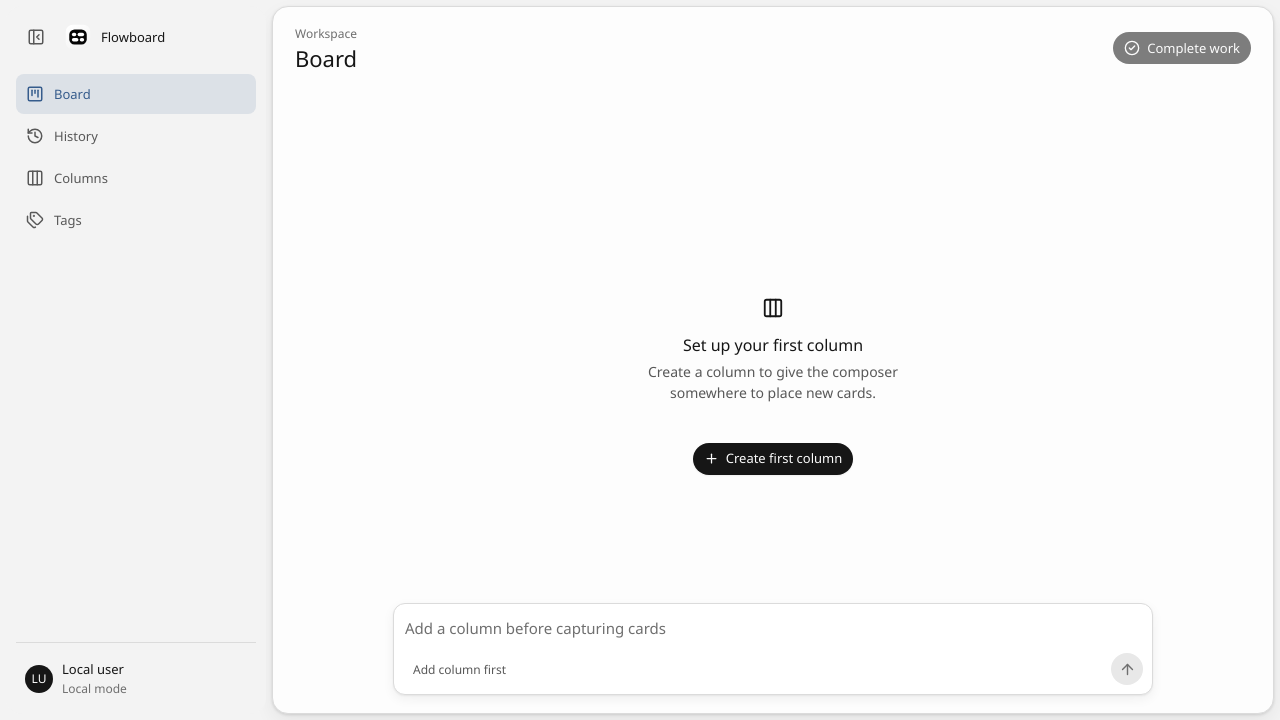
Test: opens settings directly from the local-mode sidebar footer
This screenshot has width=1280, height=720.
Click the button with aria-label "settings". click: (136, 678)
box: [16,653,256,704]
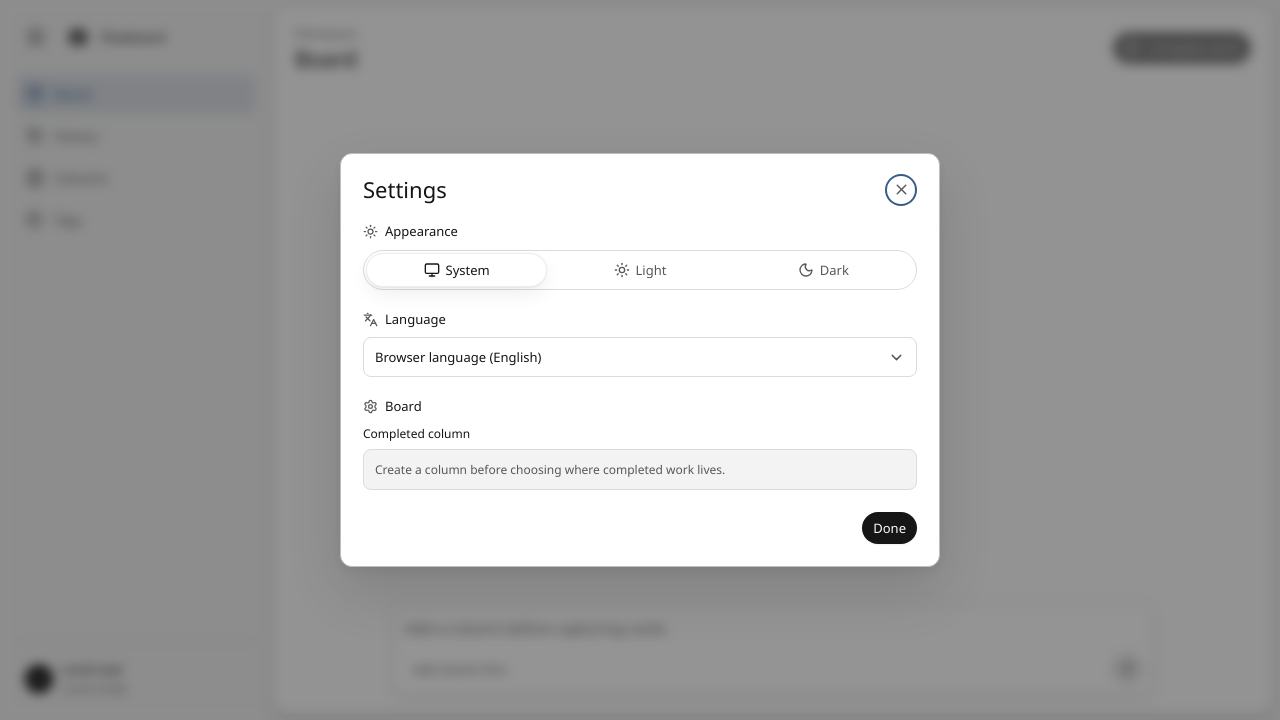
Now the dialog "Settings" is shown, box [340,153,940,567]
